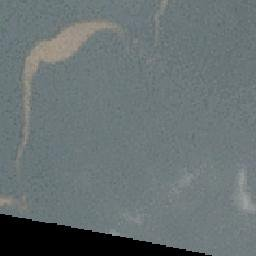debris: (22, 20, 125, 67), (14, 68, 36, 169), (1, 192, 25, 208)
